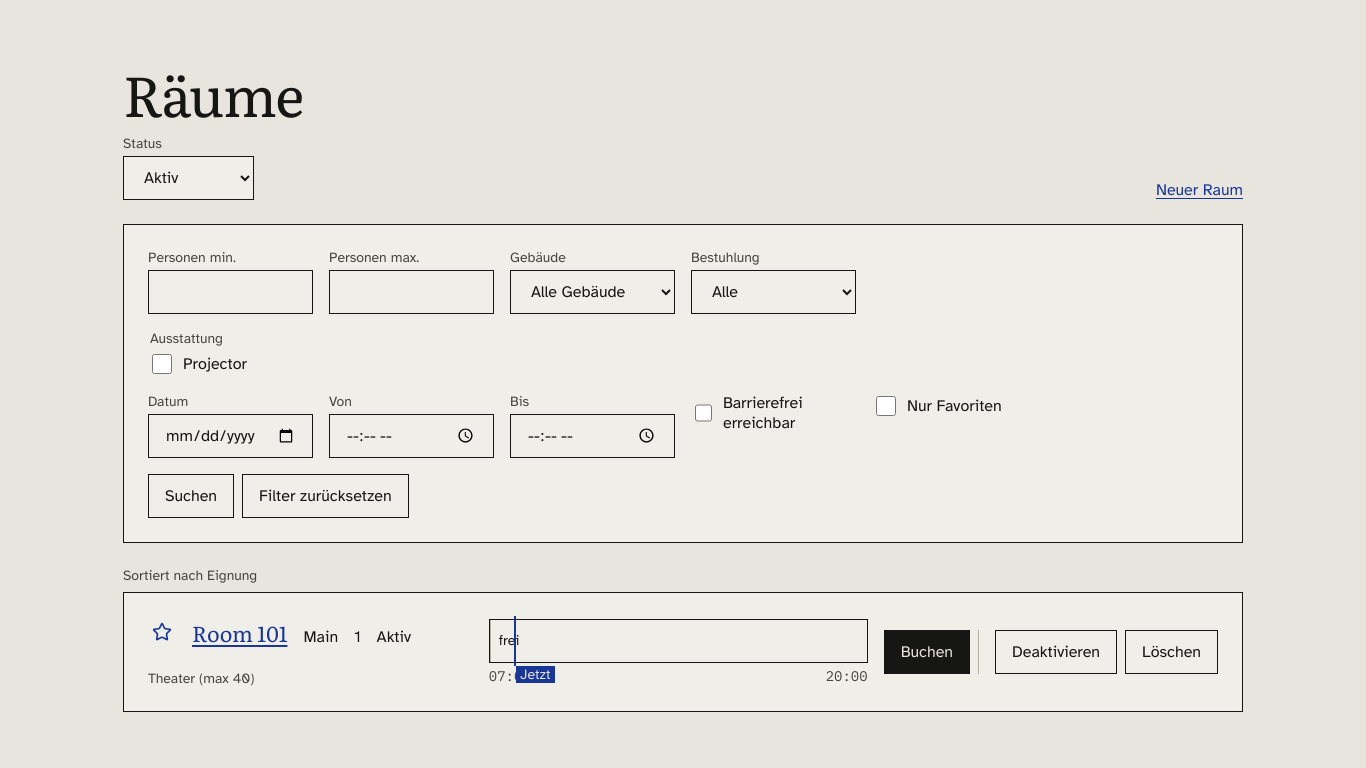
Test: RoomListPage › displays error when deactivating a room blocked by active reservations
Expected: the link "Room 101" is shown, [192,617,287,649]
Click the button with aria-label "room 101 deaktivieren" at point(1056, 652), box [995,630,1117,674]
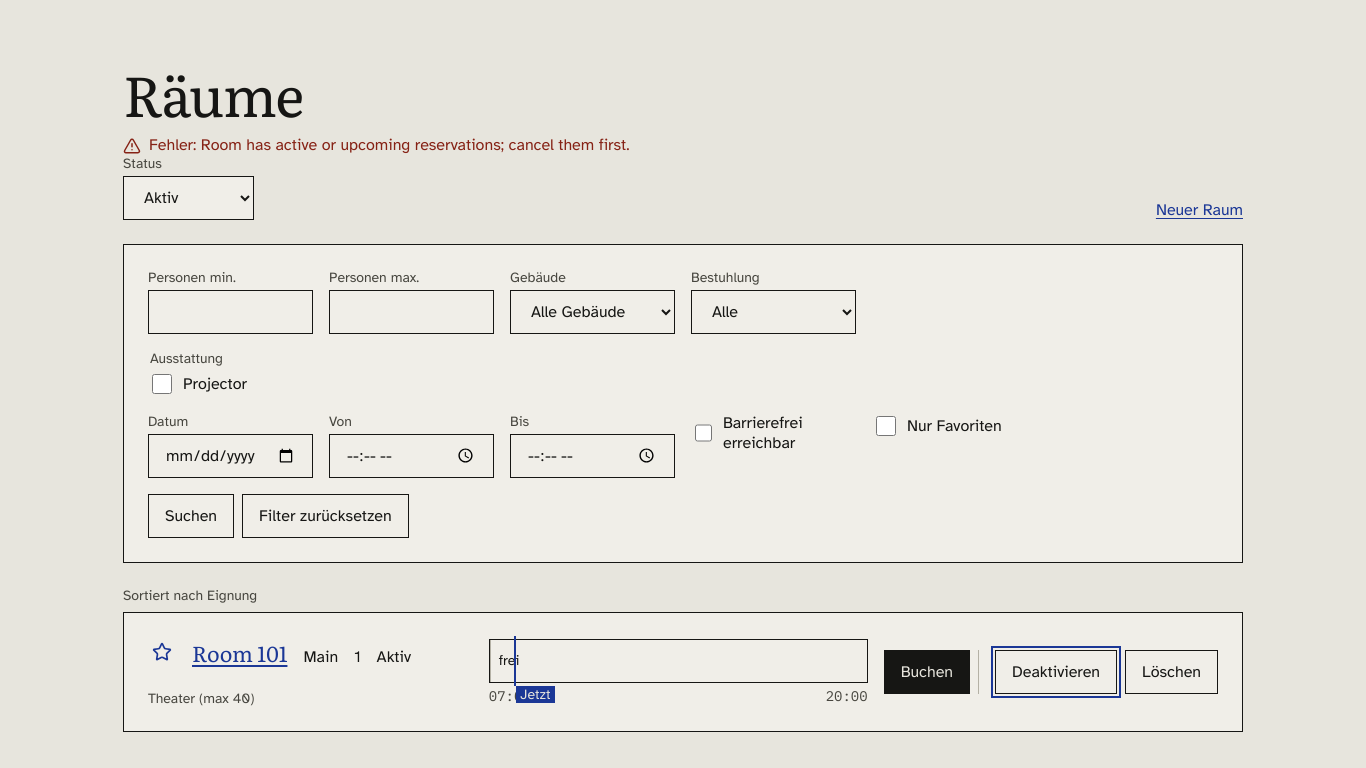
Expected: the text "Room has active or upcoming reservations" is shown, [201,135,630,155]
